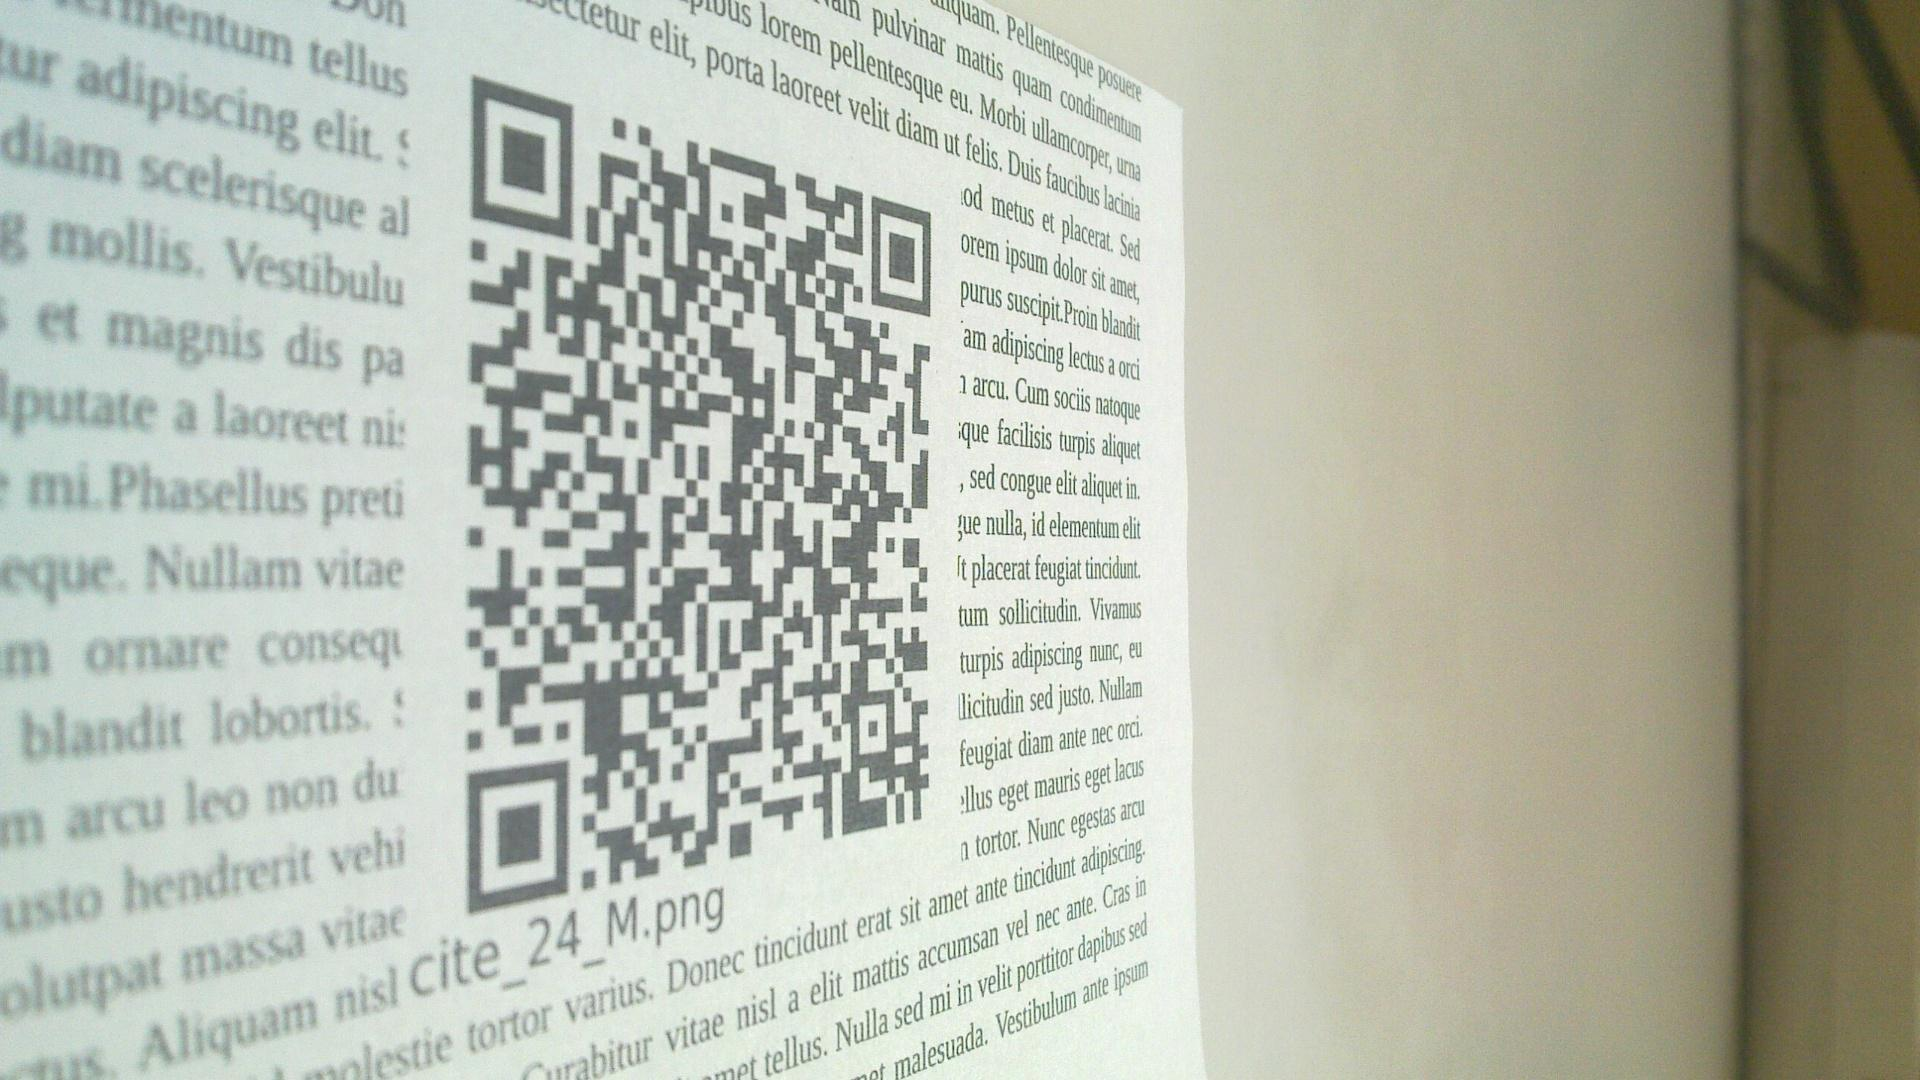Finder pattern: (462, 69, 578, 240), (462, 758, 568, 914), (865, 186, 942, 323)
